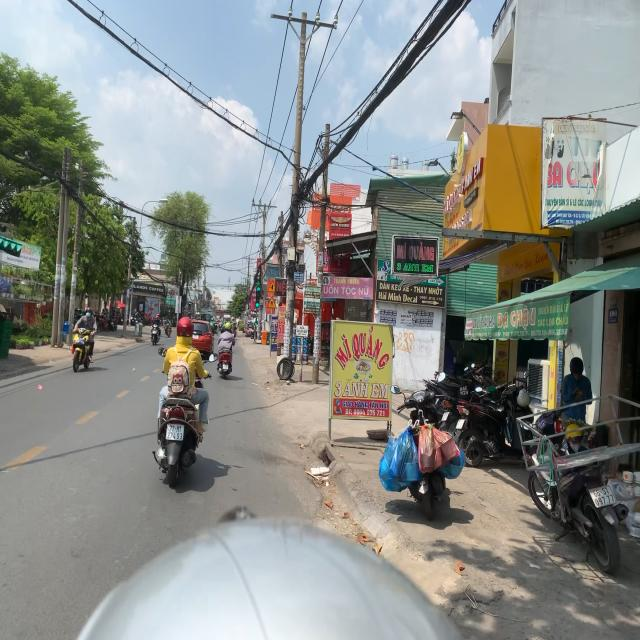Giao voi duong khong uu tien: (267, 280, 275, 293)
Nguoi di bo cat ngang: (266, 296, 277, 309)
